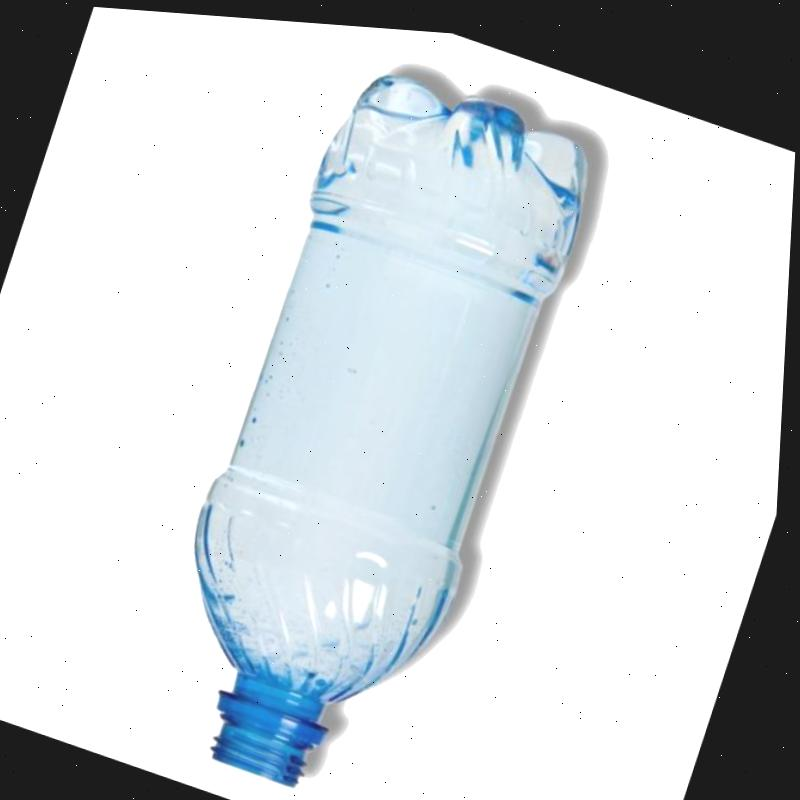botella: (132, 31, 616, 800)
